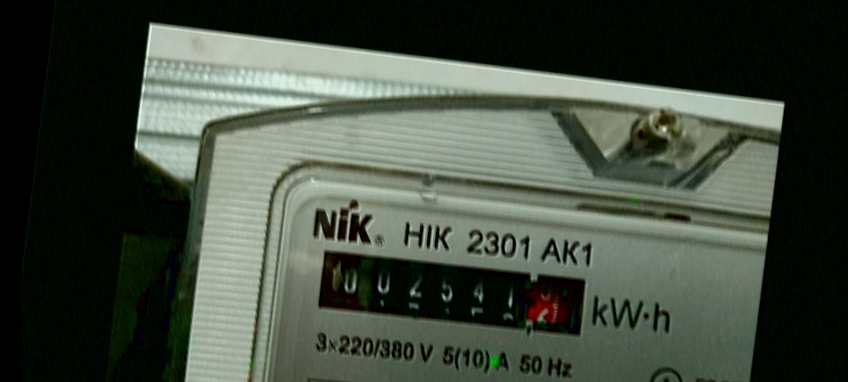0: (372, 262, 395, 297), (341, 264, 361, 295)
1: (499, 275, 519, 310)
2: (403, 265, 428, 301)
4: (469, 272, 489, 305)
5: (436, 271, 456, 305)
6: (532, 303, 551, 326)
screen: (300, 231, 609, 357)
